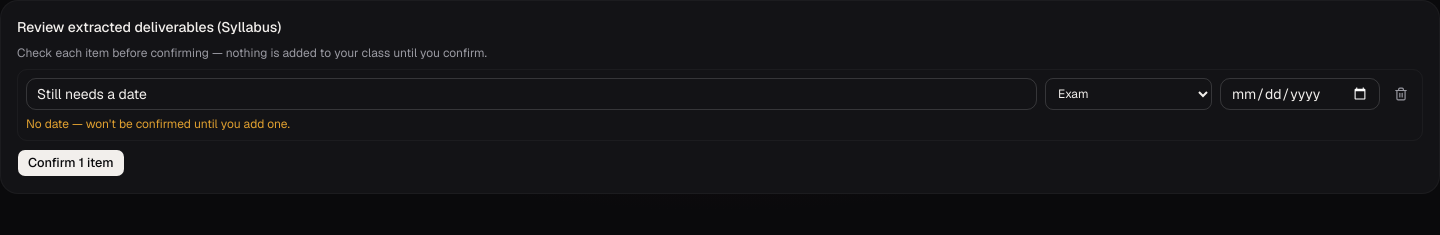
Test: SyllabusReviewPanel › shows which specific items are still blocked when confirm doesn't fully complete
The image size is (1440, 235).
Click the button "Confirm 1 item" at (71, 163), box 17,149 -> 124,177
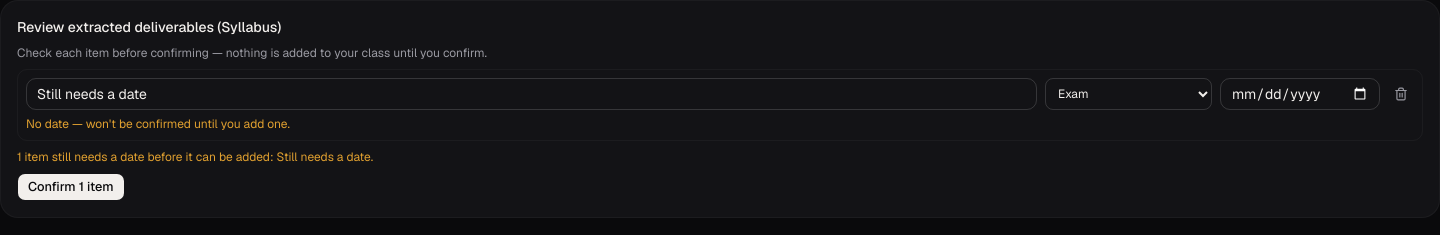
Check: the text "still needs a date" is shown, box 277,149 -> 371,165
